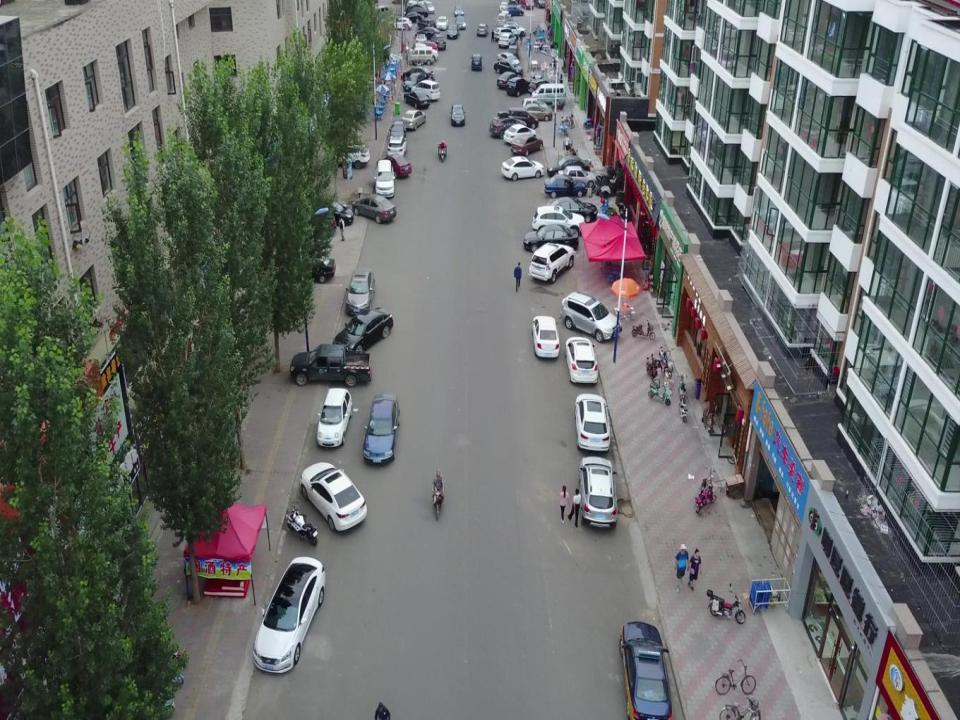car: (253, 556, 325, 674), (618, 620, 673, 720), (299, 461, 367, 533), (560, 291, 622, 343), (333, 306, 393, 357), (578, 455, 618, 531), (362, 393, 400, 466), (573, 393, 611, 454), (316, 387, 352, 448), (528, 242, 576, 284), (277, 252, 336, 284), (522, 223, 579, 253), (565, 336, 599, 386), (532, 205, 585, 236), (344, 266, 376, 316), (302, 199, 354, 227), (351, 194, 398, 224), (546, 196, 598, 223), (531, 314, 560, 360), (326, 142, 370, 170), (501, 155, 544, 182), (545, 172, 588, 199), (546, 155, 592, 180), (489, 111, 528, 138), (376, 153, 412, 179), (556, 165, 596, 188), (503, 123, 537, 145), (411, 79, 440, 103), (510, 135, 543, 156), (519, 102, 553, 122), (493, 59, 524, 78), (401, 109, 427, 131), (505, 75, 531, 97), (403, 90, 431, 110), (402, 65, 431, 83), (496, 70, 524, 88), (402, 72, 427, 92), (387, 135, 407, 159), (528, 78, 554, 96), (498, 22, 526, 38), (408, 44, 439, 58), (492, 26, 519, 42), (521, 97, 548, 113), (388, 120, 407, 142), (449, 104, 467, 127), (388, 15, 412, 32), (496, 52, 520, 68), (414, 40, 439, 55), (415, 26, 441, 40), (495, 20, 526, 31), (498, 32, 518, 49), (501, 4, 524, 17), (470, 52, 484, 72), (431, 33, 446, 50), (446, 22, 460, 40), (476, 22, 489, 38), (508, 42, 520, 58), (436, 15, 448, 30), (454, 15, 466, 30), (453, 4, 465, 18), (518, 0, 533, 9), (498, 1, 509, 12), (533, 0, 546, 8), (415, 33, 426, 42)
truck: (289, 344, 372, 388)
van: (373, 159, 396, 198), (530, 83, 566, 106), (506, 106, 539, 130), (407, 46, 434, 65), (373, 2, 390, 20), (496, 10, 512, 26)
